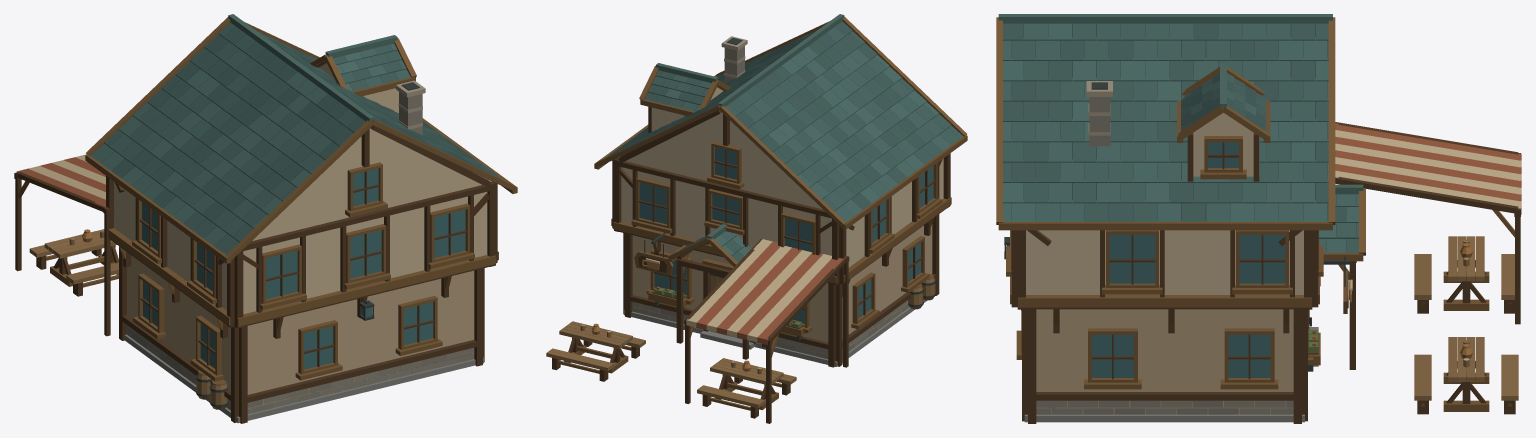
The model's file is Tavern.glb.
3 views of the same model, side by side, from view 1: azimuth 30°, elevation 25°; view 2: azimuth 150°, elevation 25°; view 3: azimuth 270°, elevation 25° (orthographic). The views are drawn at different scales.
Parts seen in each view (by area): view 1: Tavern, TavernGlass, TavernCourtyard; view 2: Tavern, TavernCourtyard, TavernGlass; view 3: Tavern, TavernCourtyard, TavernGlass.
Boxes of the visible parts, bbox=[...] form: Tavern: bbox=[85, 14, 517, 423]; TavernGlass: bbox=[142, 168, 465, 369]; TavernCourtyard: bbox=[14, 154, 118, 336]; Tavern: bbox=[594, 14, 967, 367]; TavernCourtyard: bbox=[546, 238, 849, 423]; TavernGlass: bbox=[639, 147, 933, 323]; Tavern: bbox=[996, 14, 1365, 423]; TavernCourtyard: bbox=[1309, 122, 1521, 414]; TavernGlass: bbox=[1006, 142, 1285, 377].
Size of the model in its own units: 9.17 by 8.55 by 12.12.
